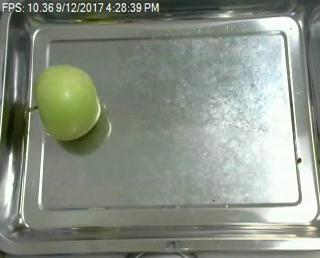fruit: (29, 64, 107, 142)
